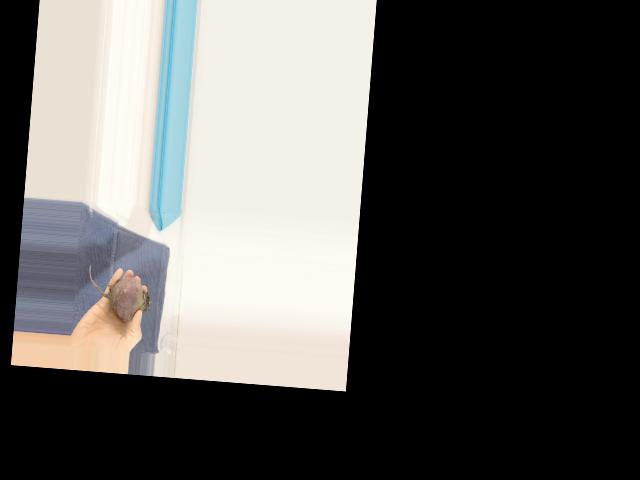beet: (85, 263, 152, 323)
